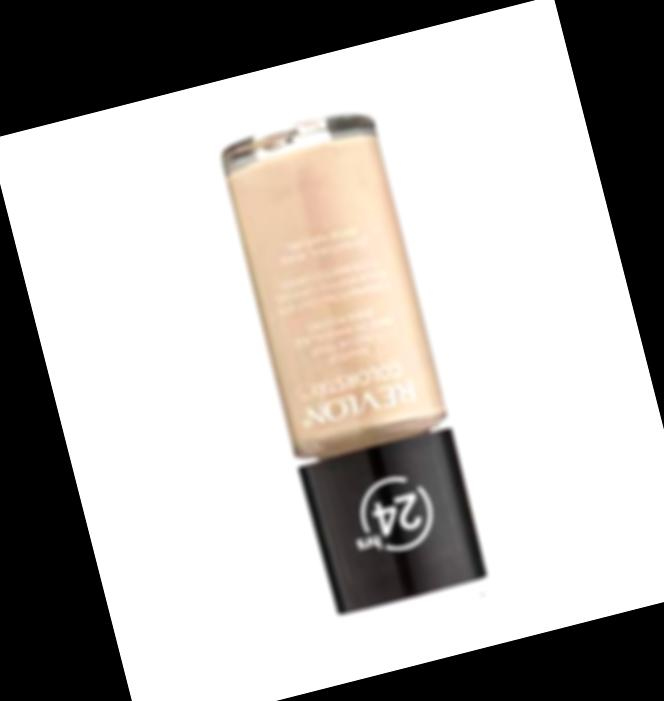cosmetic: (217, 109, 491, 614)
